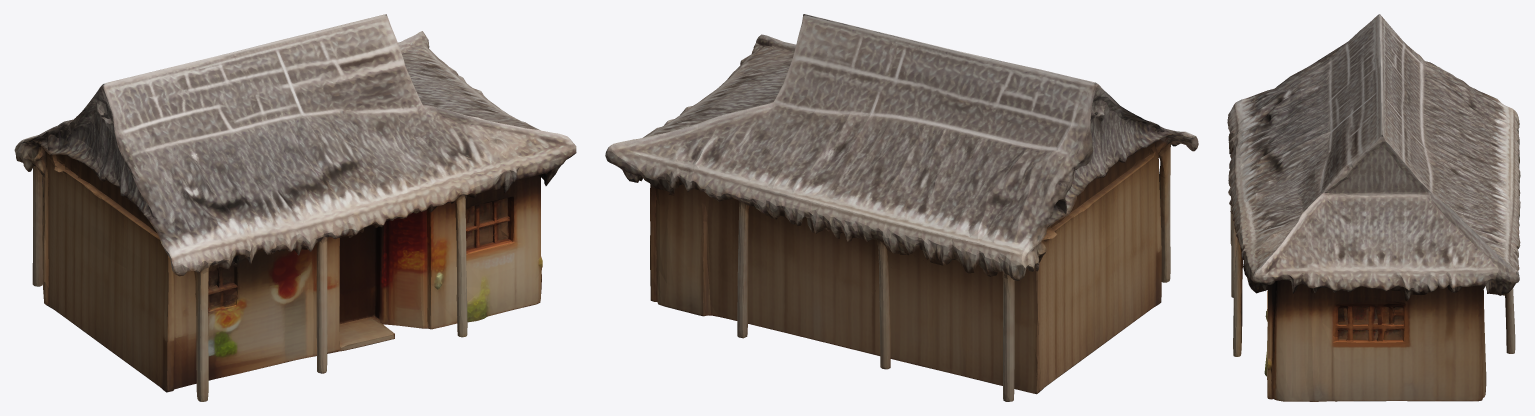
File: nha_rom.glb
The picture shows the model from 3 angles, left to right: view 1: azimuth 30°, elevation 25°; view 2: azimuth 150°, elevation 25°; view 3: azimuth 270°, elevation 25°; orthographic projection. The views are drawn at different scales.
Parts seen in each view (by area): view 1: world; view 2: world; view 3: world.
Boxes of the visible parts, x1,y1,x2,y2 form: world: (14, 14, 576, 401); world: (605, 14, 1198, 401); world: (1227, 14, 1520, 401).
Bounding box in the file's own units: 0.9979 × 0.6028 × 0.7015.
Materials: 1 (1 with a texture image).
